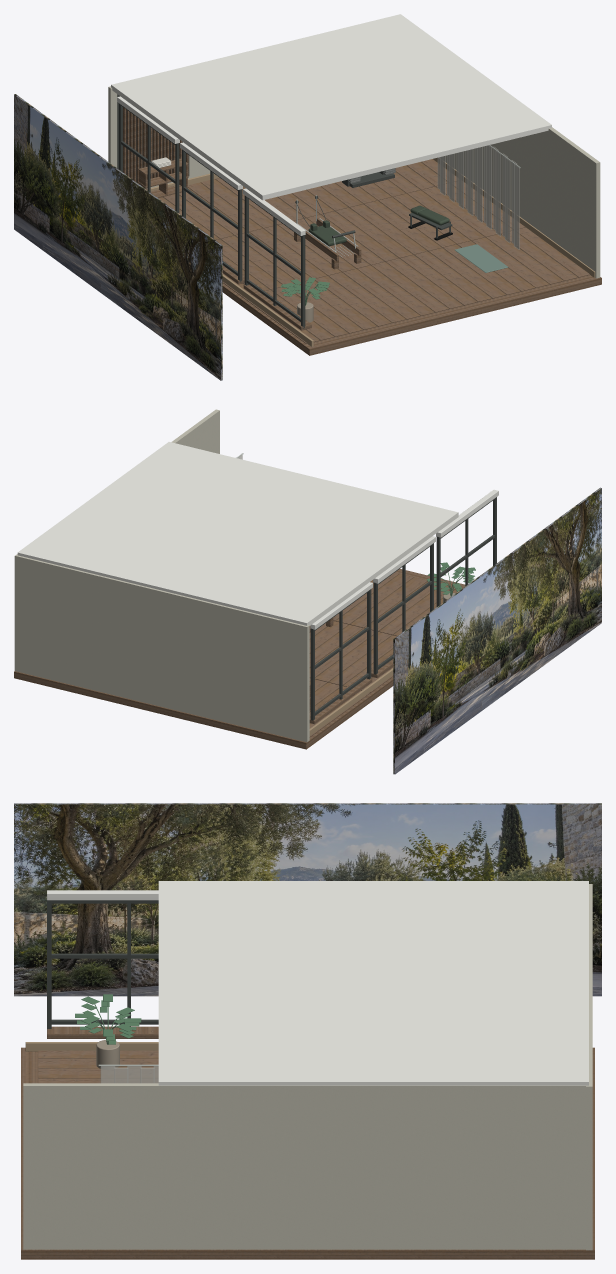
Rendered from personal-studio.glb.
3 views of the same model, one above another, from view 1: azimuth 30°, elevation 25°; view 2: azimuth 150°, elevation 25°; view 3: azimuth 270°, elevation 25° (orthographic). The views are drawn at different scales.
Parts seen in each view (by area): view 1: Flat plaster ceiling.010, Courtyard panorama.004, Right plaster wall.010, Personal training studio | continuous structural floor.004, Rear plaster wall.010, Oak plank 07-0.009, Oak plank 09-0.009, Oak plank 12-0.009, Oak plank 06-0.009, Oak plank 10-0.009, Oak plank 12-1.009, Oak plank 13-0.009 (+45 smaller); view 2: Flat plaster ceiling.010, Rear plaster wall.010, Courtyard panorama.004, Personal training studio | continuous structural floor.004, Right plaster wall.010, Oak plank 05-0.009, Oak plank 03-1.009, Oak plank 06-0.009, Oak plank 03-0.009, Oak plank 02-1.009, Oak floor skirting.020, Window 3 sill.010 (+6 smaller); view 3: Right plaster wall.010, Flat plaster ceiling.010, Courtyard panorama.004, Personal training studio | continuous structural floor.004, Rear plaster wall.010, Window 1 top lintel.010, Oak plank 02-0.009, Window 1 sill.010, Oak floor skirting.020, Oak plank 01-0.009, Oak plank 00-0.009, Window 1 vertical mullion.020 (+1 smaller).
Boxes of the visible parts, x1,y1,x2,y2 form: Flat plaster ceiling.010: [111, 14, 551, 200]; Courtyard panorama.004: [14, 94, 222, 380]; Right plaster wall.010: [443, 127, 600, 278]; Personal training studio | continuous structural floor.004: [222, 275, 601, 355]; Rear plaster wall.010: [108, 86, 210, 188]; Oak plank 07-0.009: [343, 268, 420, 319]; Oak plank 09-0.009: [371, 261, 449, 312]; Oak plank 12-0.009: [414, 251, 492, 301]; Oak plank 06-0.009: [328, 272, 406, 322]; Oak plank 10-0.009: [386, 258, 463, 308]; Oak plank 12-1.009: [350, 204, 427, 254]; Oak plank 13-0.009: [429, 248, 506, 298]; Flat plaster ceiling.010: [17, 442, 458, 625]; Rear plaster wall.010: [14, 554, 309, 742]; Courtyard panorama.004: [393, 487, 601, 774]; Personal training studio | continuous structural floor.004: [14, 569, 465, 749]; Right plaster wall.010: [15, 409, 219, 671]; Oak plank 05-0.009: [349, 577, 426, 627]; Oak plank 03-1.009: [315, 631, 391, 682]; Oak plank 06-0.009: [335, 574, 412, 624]; Oak plank 03-0.009: [378, 585, 454, 634]; Oak plank 02-1.009: [328, 635, 396, 684]; Oak floor skirting.020: [309, 668, 393, 735]; Window 3 sill.010: [309, 676, 372, 724]; Right plaster wall.010: [23, 1083, 585, 1249]; Flat plaster ceiling.010: [158, 881, 588, 1085]; Courtyard panorama.004: [14, 803, 601, 996]; Personal training studio | continuous structural floor.004: [21, 1047, 594, 1259]; Rear plaster wall.010: [586, 884, 592, 1250]; Window 1 top lintel.010: [47, 890, 158, 900]; Oak plank 02-0.009: [38, 1068, 157, 1078]; Window 1 sill.010: [47, 1026, 158, 1038]; Oak floor skirting.020: [25, 1042, 158, 1051]; Oak plank 01-0.009: [38, 1058, 158, 1068]; Oak plank 00-0.009: [38, 1050, 158, 1058]; Window 1 vertical mullion.020: [47, 900, 51, 1028].
Size of the model in its own units: 13.38 by 4.5 by 12.5.
Materials: 19 (6 with a texture image).
